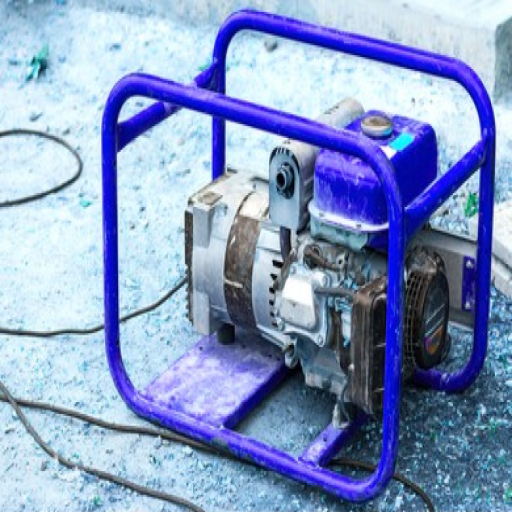portable_generator: (102, 8, 497, 503)
